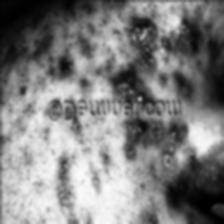Non-Cancerous Skin Condition: (0, 0, 224, 91), (3, 125, 198, 224)
